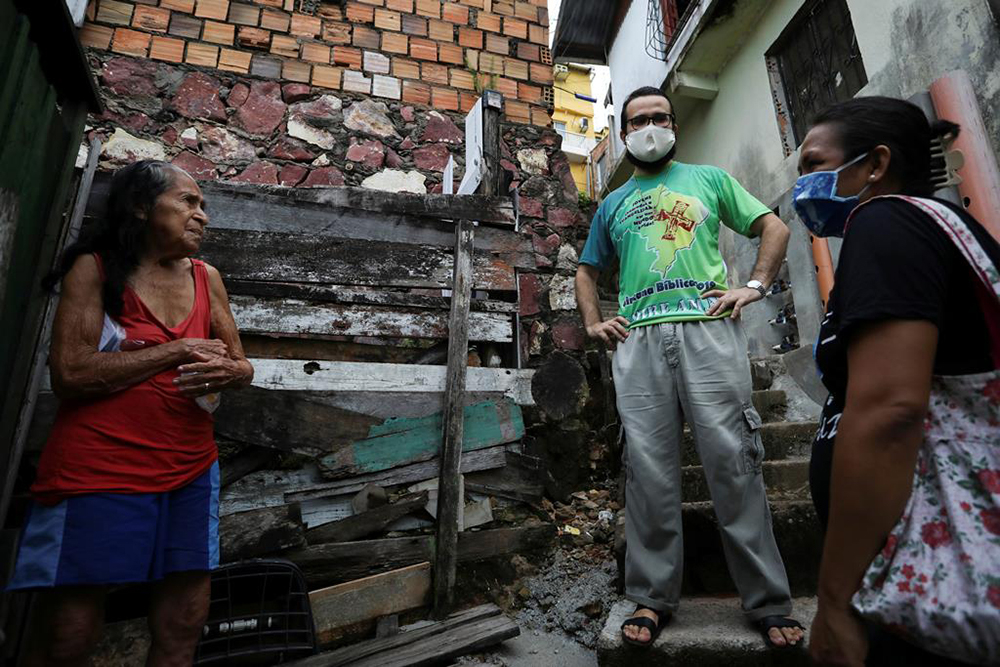with_mask: (796, 129, 875, 239), (622, 97, 677, 168)
without_mask: (151, 172, 215, 251)
